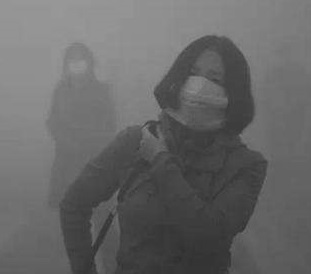person: (61, 33, 273, 274), (44, 40, 122, 211)
